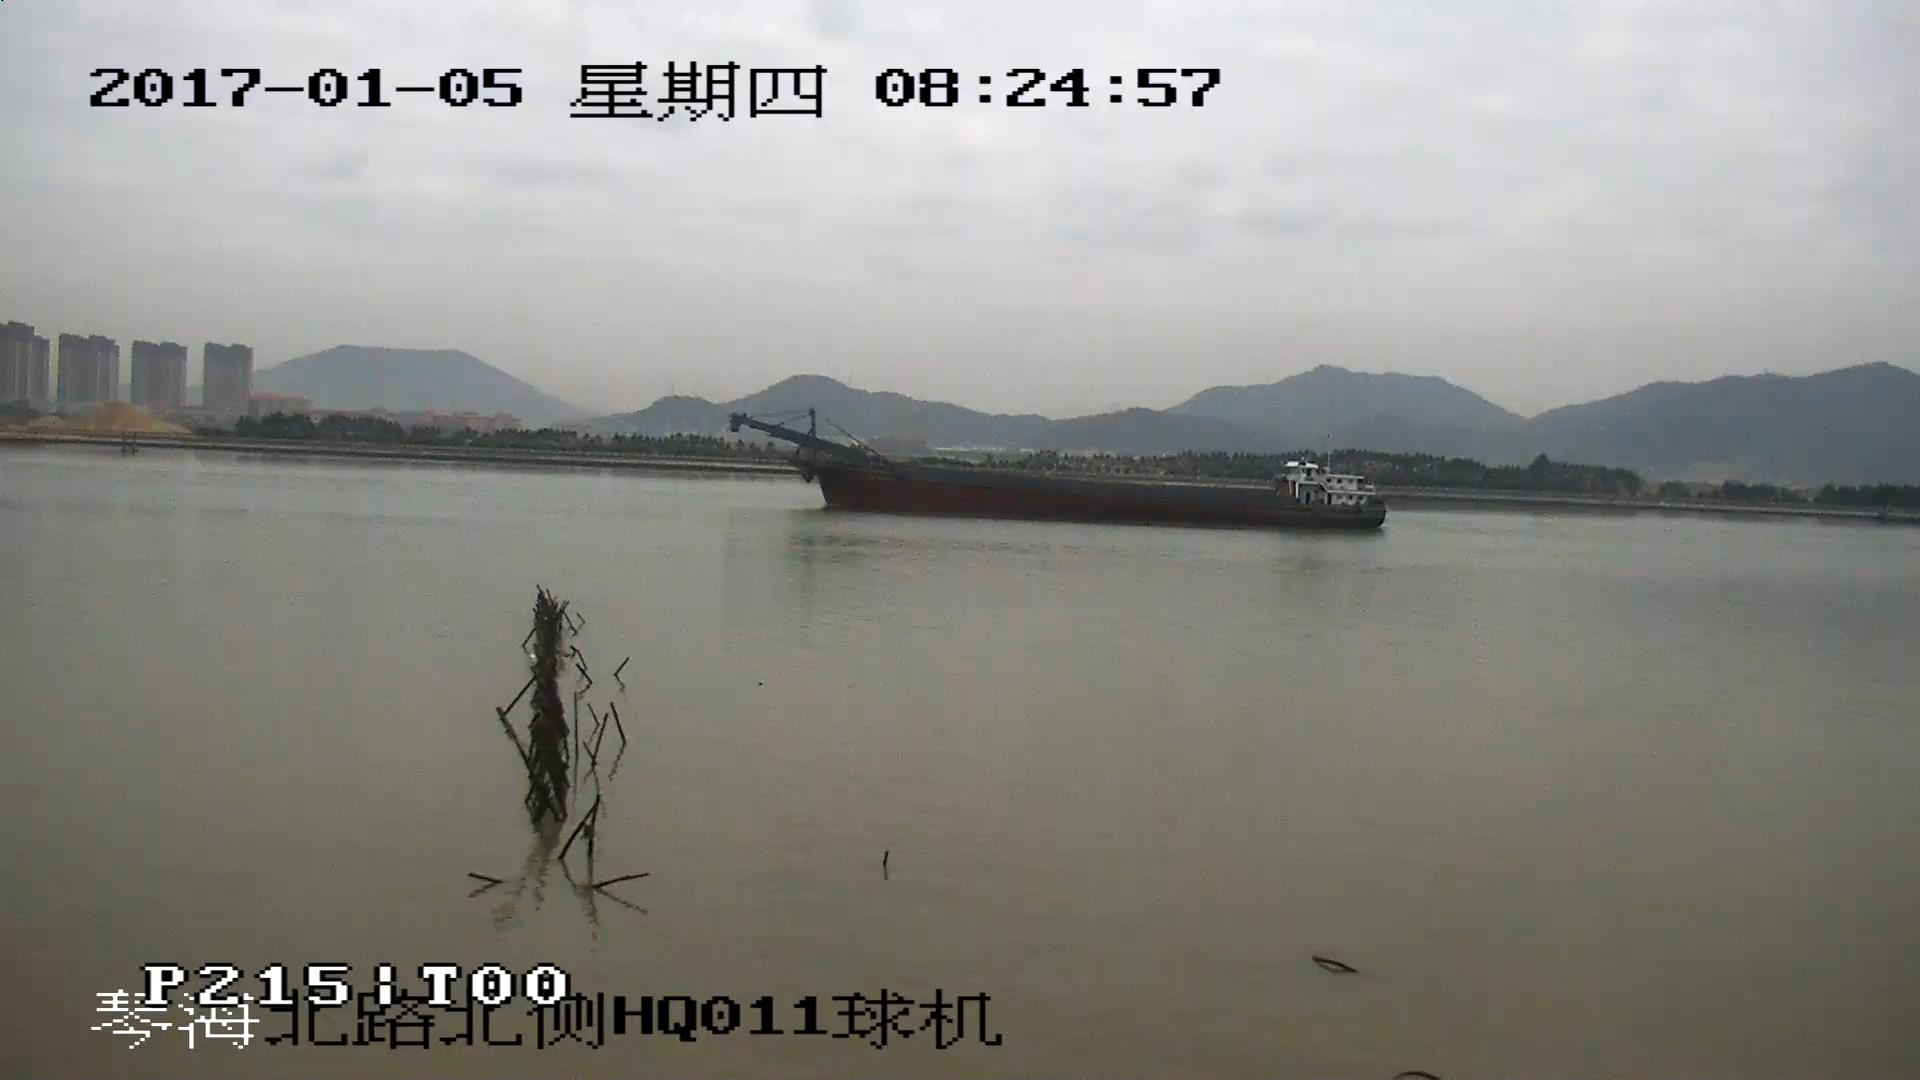bulk cargo carrier: (734, 408, 1387, 529)
